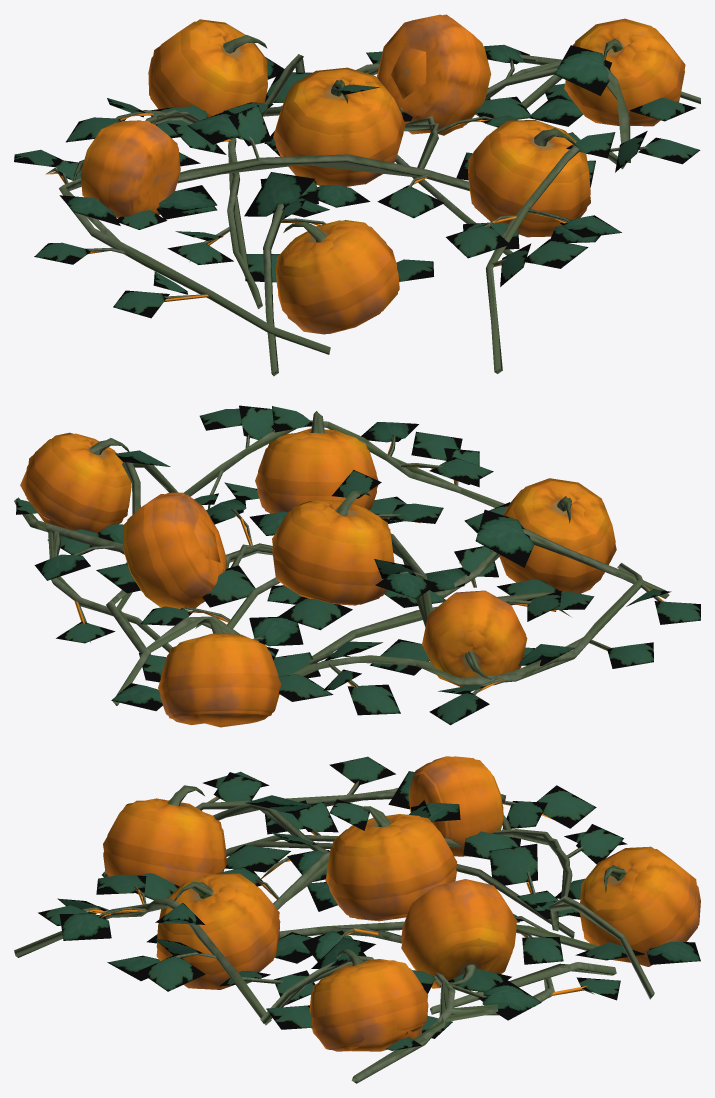
The model's file is plants_un_pumpkin01.gltf.
3 renders of one model, top to bottom at view 1: azimuth 30°, elevation 25°; view 2: azimuth 150°, elevation 25°; view 3: azimuth 270°, elevation 25°, orthographic. The views are drawn at different scales.
Parts seen in each view (by area): view 1: um_plants_un_pumpkin01_model_lod0Shape:plants_un_pumpkin01_l, um_plants_un_pumpkin01_model_lod0Shape:plants_un_pumpkin01_0, um_plants_un_pumpkin01_model_lod1Shape:plants_un_pumpkin01_0, um_plants_un_pumpkin01_model_lod1Shape:plants_un_pumpkin01_l, um_plants_un_pumpkin01_model_lod2Shape:plants_un_pumpkin01_l, um_plants_un_pumpkin01_model_lod2Shape:plants_un_pumpkin01_0; view 2: um_plants_un_pumpkin01_model_lod0Shape:plants_un_pumpkin01_l, um_plants_un_pumpkin01_model_lod0Shape:plants_un_pumpkin01_0, um_plants_un_pumpkin01_model_lod1Shape:plants_un_pumpkin01_0, um_plants_un_pumpkin01_model_lod1Shape:plants_un_pumpkin01_l, um_plants_un_pumpkin01_model_lod2Shape:plants_un_pumpkin01_l, um_plants_un_pumpkin01_model_lod2Shape:plants_un_pumpkin01_0; view 3: um_plants_un_pumpkin01_model_lod0Shape:plants_un_pumpkin01_l, um_plants_un_pumpkin01_model_lod0Shape:plants_un_pumpkin01_0, um_plants_un_pumpkin01_model_lod1Shape:plants_un_pumpkin01_0, um_plants_un_pumpkin01_model_lod1Shape:plants_un_pumpkin01_l, um_plants_un_pumpkin01_model_lod2Shape:plants_un_pumpkin01_l, um_plants_un_pumpkin01_model_lod2Shape:plants_un_pumpkin01_0.
Boxes of the visible parts, x1,y1,x2,y2 form: um_plants_un_pumpkin01_model_lod0Shape:plants_un_pumpkin01_l: (14,44,700,376); um_plants_un_pumpkin01_model_lod0Shape:plants_un_pumpkin01_0: (73,14,684,333); um_plants_un_pumpkin01_model_lod1Shape:plants_un_pumpkin01_0: (75,14,685,334); um_plants_un_pumpkin01_model_lod1Shape:plants_un_pumpkin01_l: (46,54,628,374); um_plants_un_pumpkin01_model_lod2Shape:plants_un_pumpkin01_l: (63,60,700,372); um_plants_un_pumpkin01_model_lod2Shape:plants_un_pumpkin01_0: (74,35,620,242); um_plants_un_pumpkin01_model_lod0Shape:plants_un_pumpkin01_l: (14,405,700,725); um_plants_un_pumpkin01_model_lod0Shape:plants_un_pumpkin01_0: (25,411,615,724); um_plants_un_pumpkin01_model_lod1Shape:plants_un_pumpkin01_0: (26,428,616,723); um_plants_un_pumpkin01_model_lod1Shape:plants_un_pumpkin01_l: (19,422,663,705); um_plants_un_pumpkin01_model_lod2Shape:plants_un_pumpkin01_l: (19,439,639,680); um_plants_un_pumpkin01_model_lod2Shape:plants_un_pumpkin01_0: (20,411,571,727); um_plants_un_pumpkin01_model_lod0Shape:plants_un_pumpkin01_l: (14,756,700,1083); um_plants_un_pumpkin01_model_lod0Shape:plants_un_pumpkin01_0: (103,756,700,1051); um_plants_un_pumpkin01_model_lod1Shape:plants_un_pumpkin01_0: (103,756,697,1049); um_plants_un_pumpkin01_model_lod1Shape:plants_un_pumpkin01_l: (57,784,653,1081); um_plants_un_pumpkin01_model_lod2Shape:plants_un_pumpkin01_l: (26,793,653,1081); um_plants_un_pumpkin01_model_lod2Shape:plants_un_pumpkin01_0: (138,785,626,1051).
Bounding box in the file's own units: 3.51 × 0.8301 × 3.15.
Materials: 2 (2 with a texture image).
